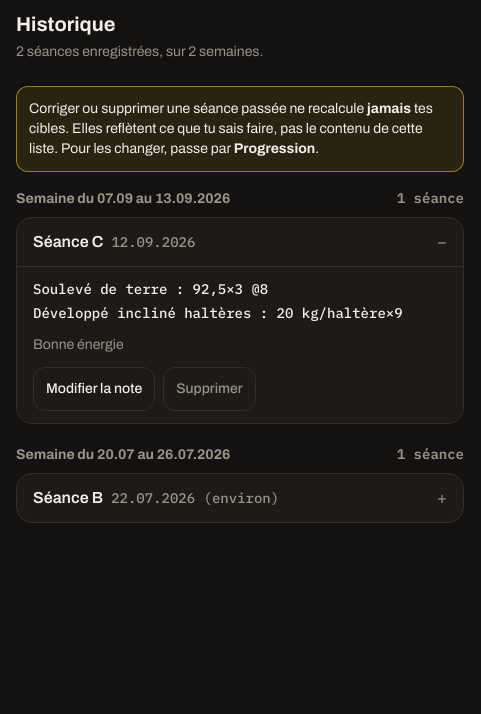
Test: historique › supprime après confirmation et retire la séance de la liste
This screenshot has width=481, height=714.
Click the button "Supprimer" at (209, 389), box [163,367,256,411]
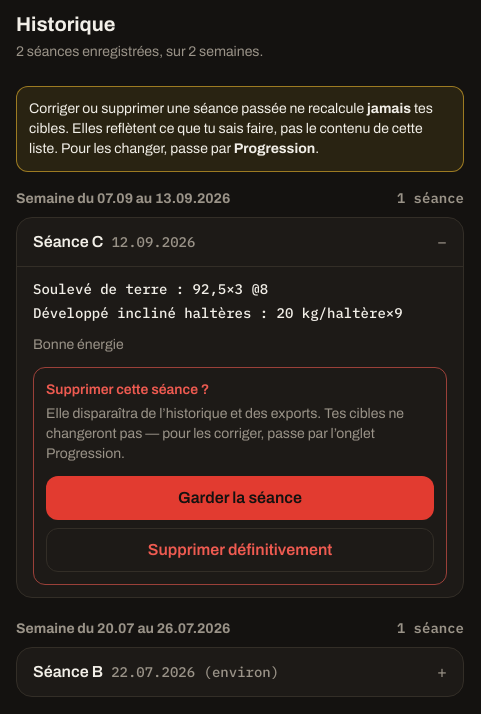
Click the button "Supprimer définitivement" at (240, 550), box [46,528,434,572]
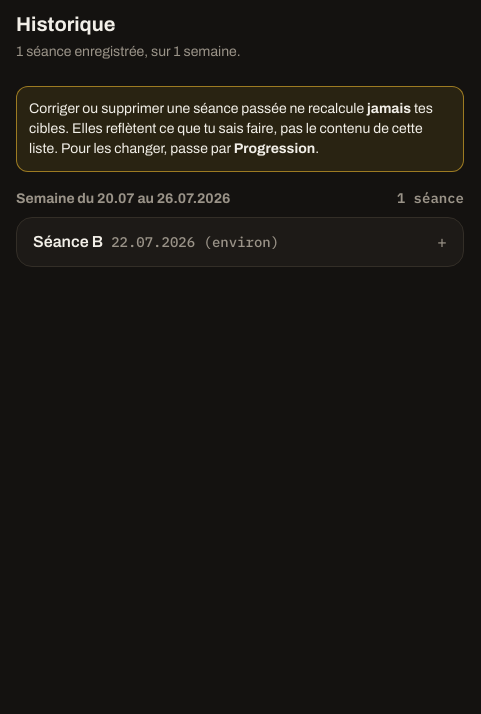
Check: the button "Séance C" is gone
Check: the text "1 séance enregistrée, sur 1 semaine." is shown, box [16,44,241,59]
